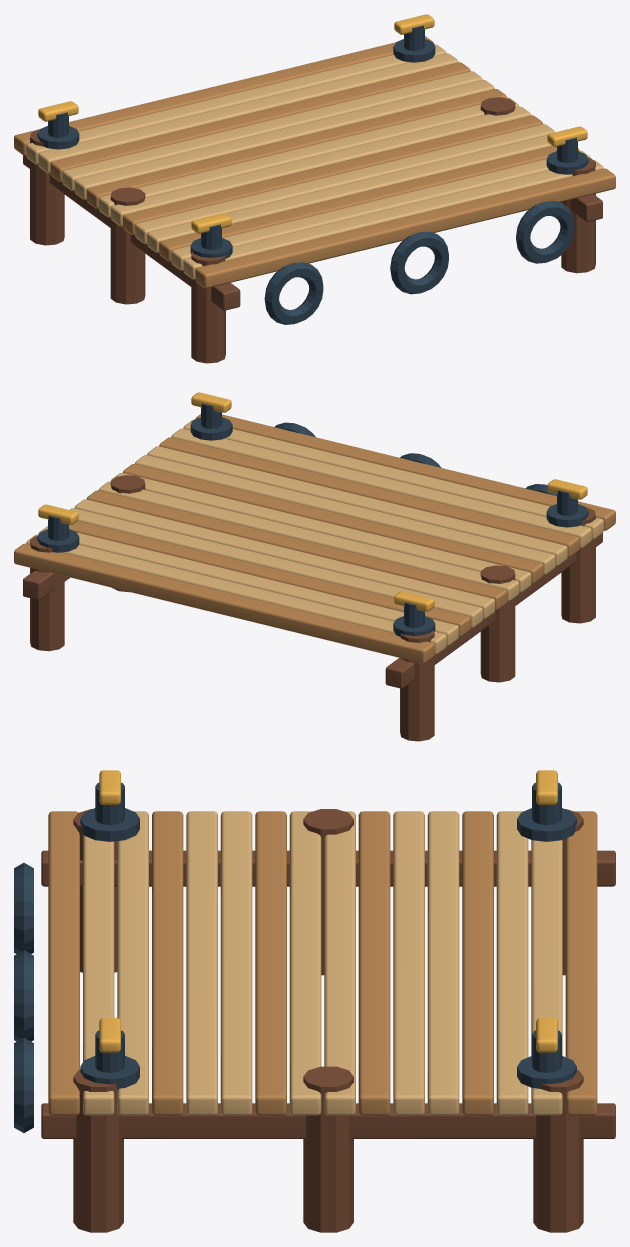
The model's file is Dock_T1.fbx.
3 renders of one model, top to bottom at view 1: azimuth 30°, elevation 25°; view 2: azimuth 150°, elevation 25°; view 3: azimuth 270°, elevation 25°, orthographic. The views are drawn at different scales.
Visible parts, largest first — view 1: Dock_T1_Static; view 2: Dock_T1_Static; view 3: Dock_T1_Static.
Part boxes in pixels (x1,y1,x2,y2): Dock_T1_Static: (14,14,615,363); Dock_T1_Static: (14,392,615,741); Dock_T1_Static: (14,770,615,1232).
Bounding box in the file's own units: 5.9 × 1.82 × 5.24.
Materials: 1 (1 with a texture image).
